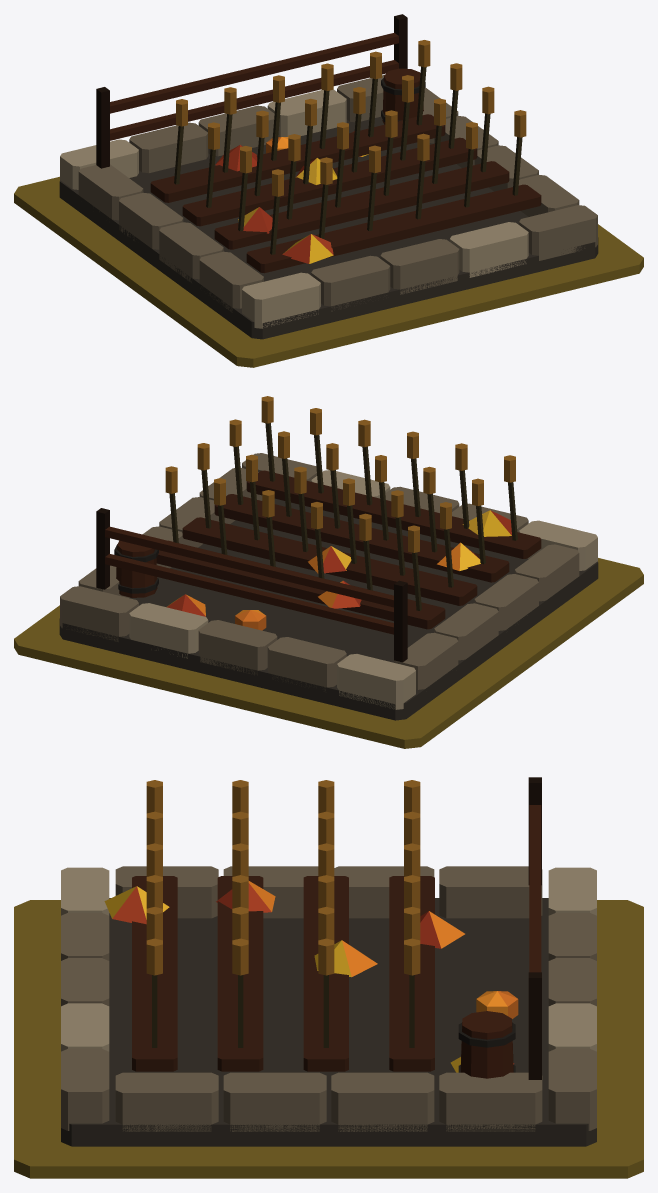
The model's file is farm_t2.glb.
The picture shows the model from 3 angles, top to bottom: view 1: azimuth 30°, elevation 25°; view 2: azimuth 150°, elevation 25°; view 3: azimuth 270°, elevation 25°; orthographic projection. The views are drawn at different scales.
Parts seen in each view (by area): view 1: MMR | farm | T02 Architecture.001, MMR | farm | Tier 02 Ground.001, MMR | farm | T02 Autumn Dressing.001; view 2: MMR | farm | T02 Architecture.001, MMR | farm | Tier 02 Ground.001, MMR | farm | T02 Autumn Dressing.001; view 3: MMR | farm | T02 Architecture.001, MMR | farm | Tier 02 Ground.001, MMR | farm | T02 Autumn Dressing.001.
Part boxes in pixels (bbox=[...]): MMR | farm | T02 Architecture.001: bbox=[59, 14, 598, 339]; MMR | farm | Tier 02 Ground.001: bbox=[14, 176, 643, 367]; MMR | farm | T02 Autumn Dressing.001: bbox=[215, 131, 368, 263]; MMR | farm | T02 Architecture.001: bbox=[59, 396, 598, 720]; MMR | farm | Tier 02 Ground.001: bbox=[14, 558, 643, 748]; MMR | farm | T02 Autumn Dressing.001: bbox=[166, 510, 511, 630]; MMR | farm | T02 Architecture.001: bbox=[61, 777, 596, 1146]; MMR | farm | Tier 02 Ground.001: bbox=[14, 900, 643, 1178]; MMR | farm | T02 Autumn Dressing.001: bbox=[104, 881, 518, 1072].
Bounding box in the file's own units: 2.35 × 0.764 × 2.35.
1 material, 1 textured.
